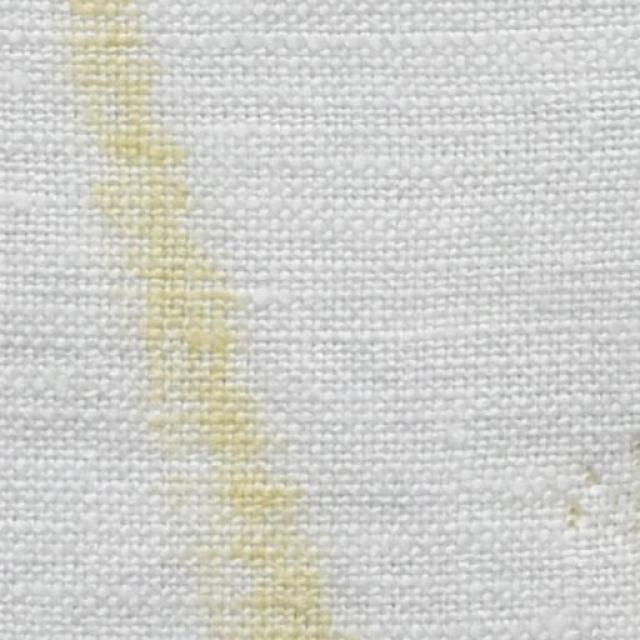Stain: (51, 0, 328, 639)
